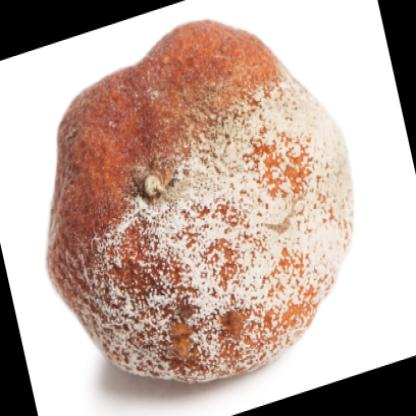rotten: (47, 19, 353, 381)
